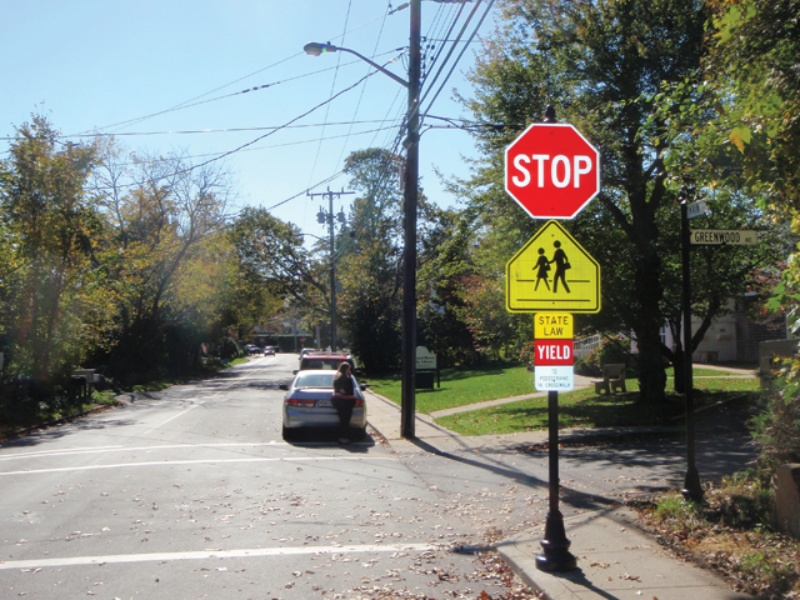stop sign: (499, 121, 610, 223)
